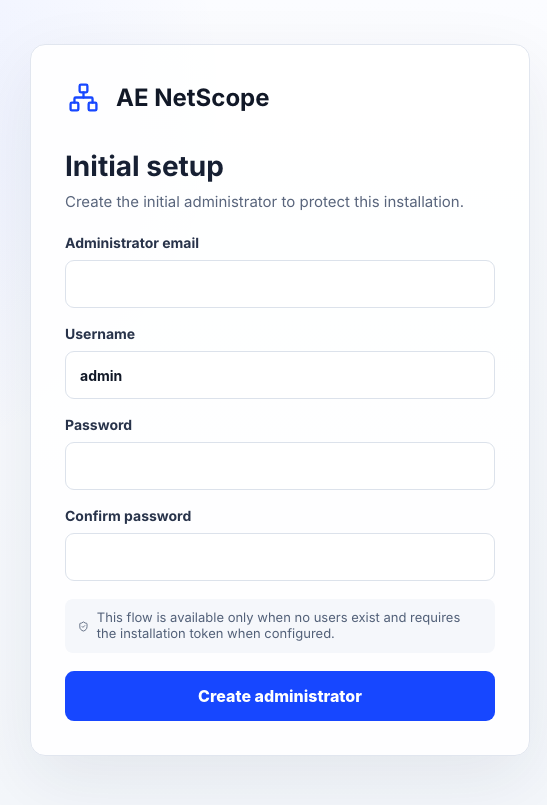
Test: SetupScreen › explains a 422 setup failure
The width and height of the screenshot is (547, 805).
In the field labelled "Administrator email": (280,284) [65,260,495,308], type "owner@example.com"
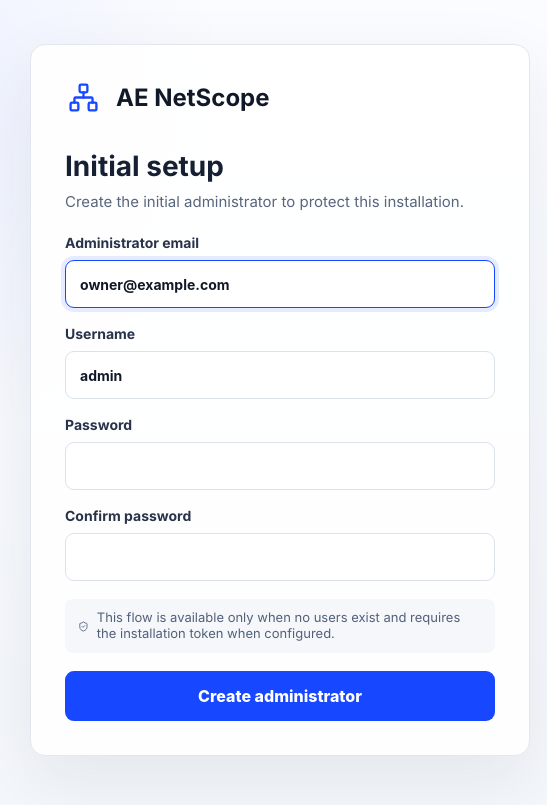
In the password field labelled "Password": (280,466) [65,442,495,490], type "first-secure-password"
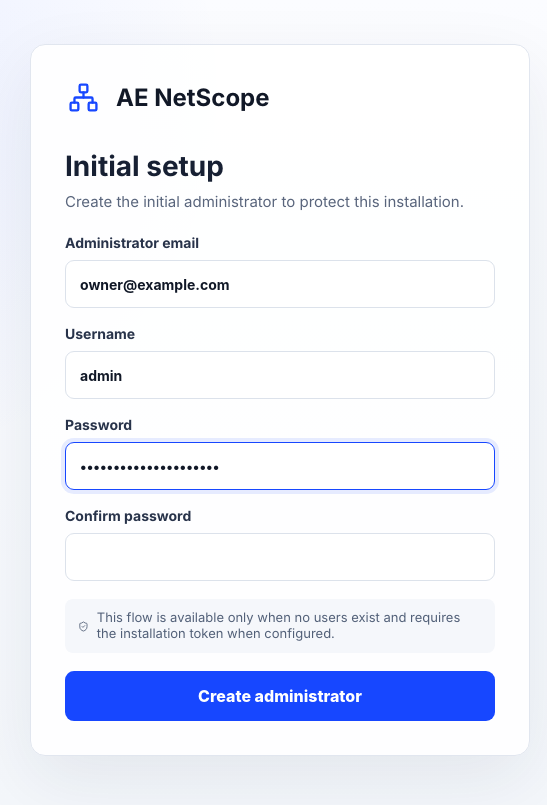
In the password field labelled "Confirm password": (280,557) [65,533,495,581], type "first-secure-password"
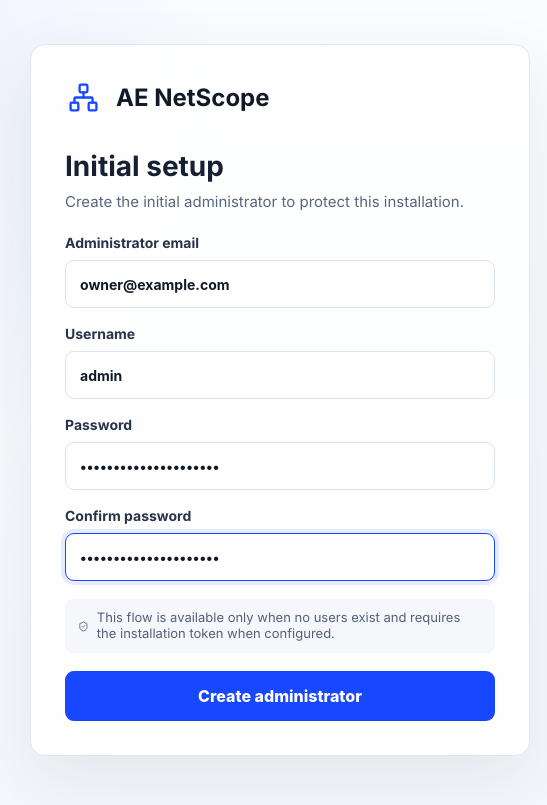
Click the button "Create administrator": (280,696) [65,671,495,721]
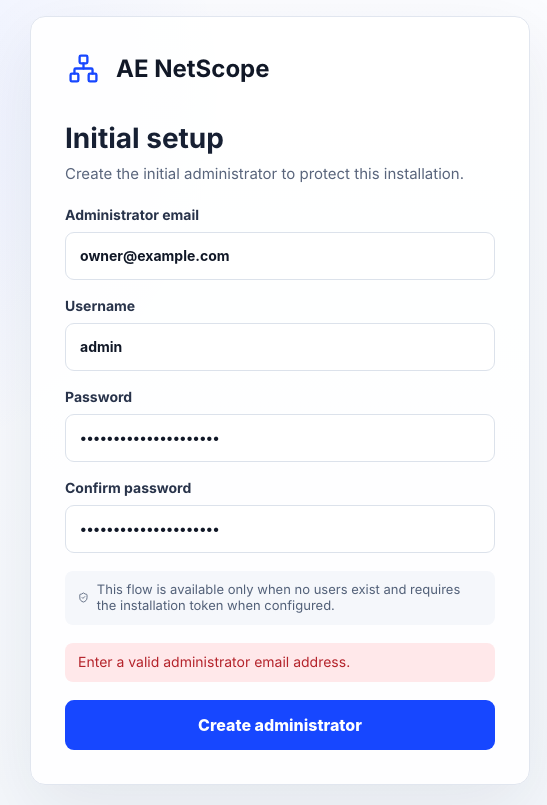
Expected: the text "Enter a valid administrator email address." is shown, [65,642,495,682]
